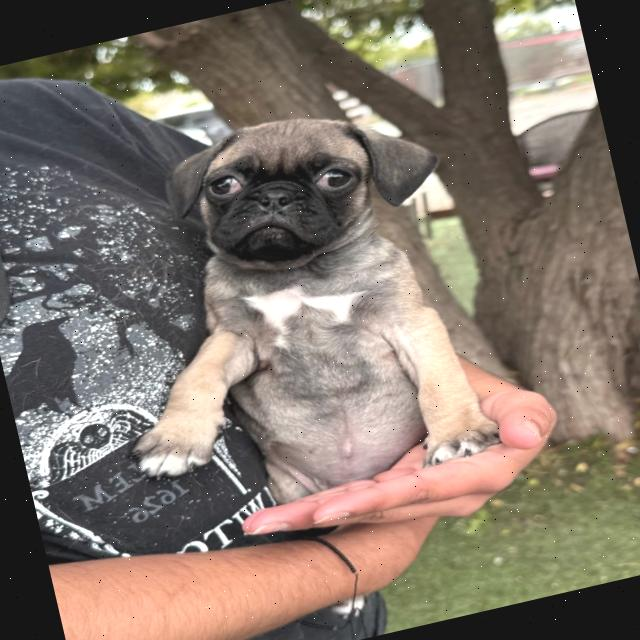pug_dog: (136, 74, 472, 315)
